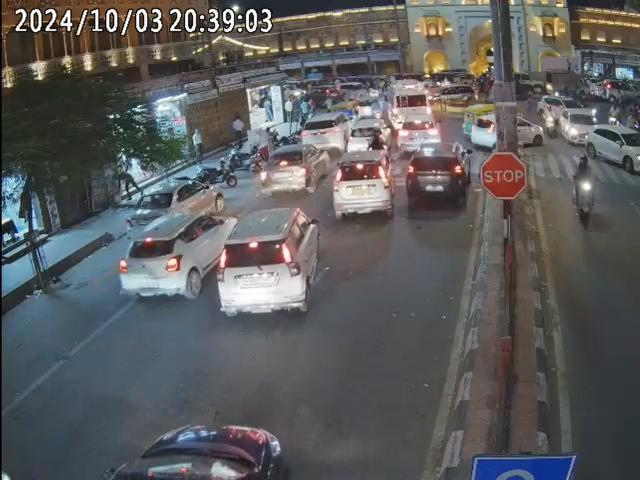car: (220, 207, 320, 322), (119, 212, 238, 302), (334, 148, 394, 221), (403, 140, 465, 203), (258, 143, 332, 193), (585, 125, 640, 176), (475, 111, 541, 147)
